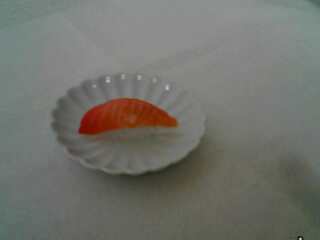002_classes: (78, 93, 179, 144)
